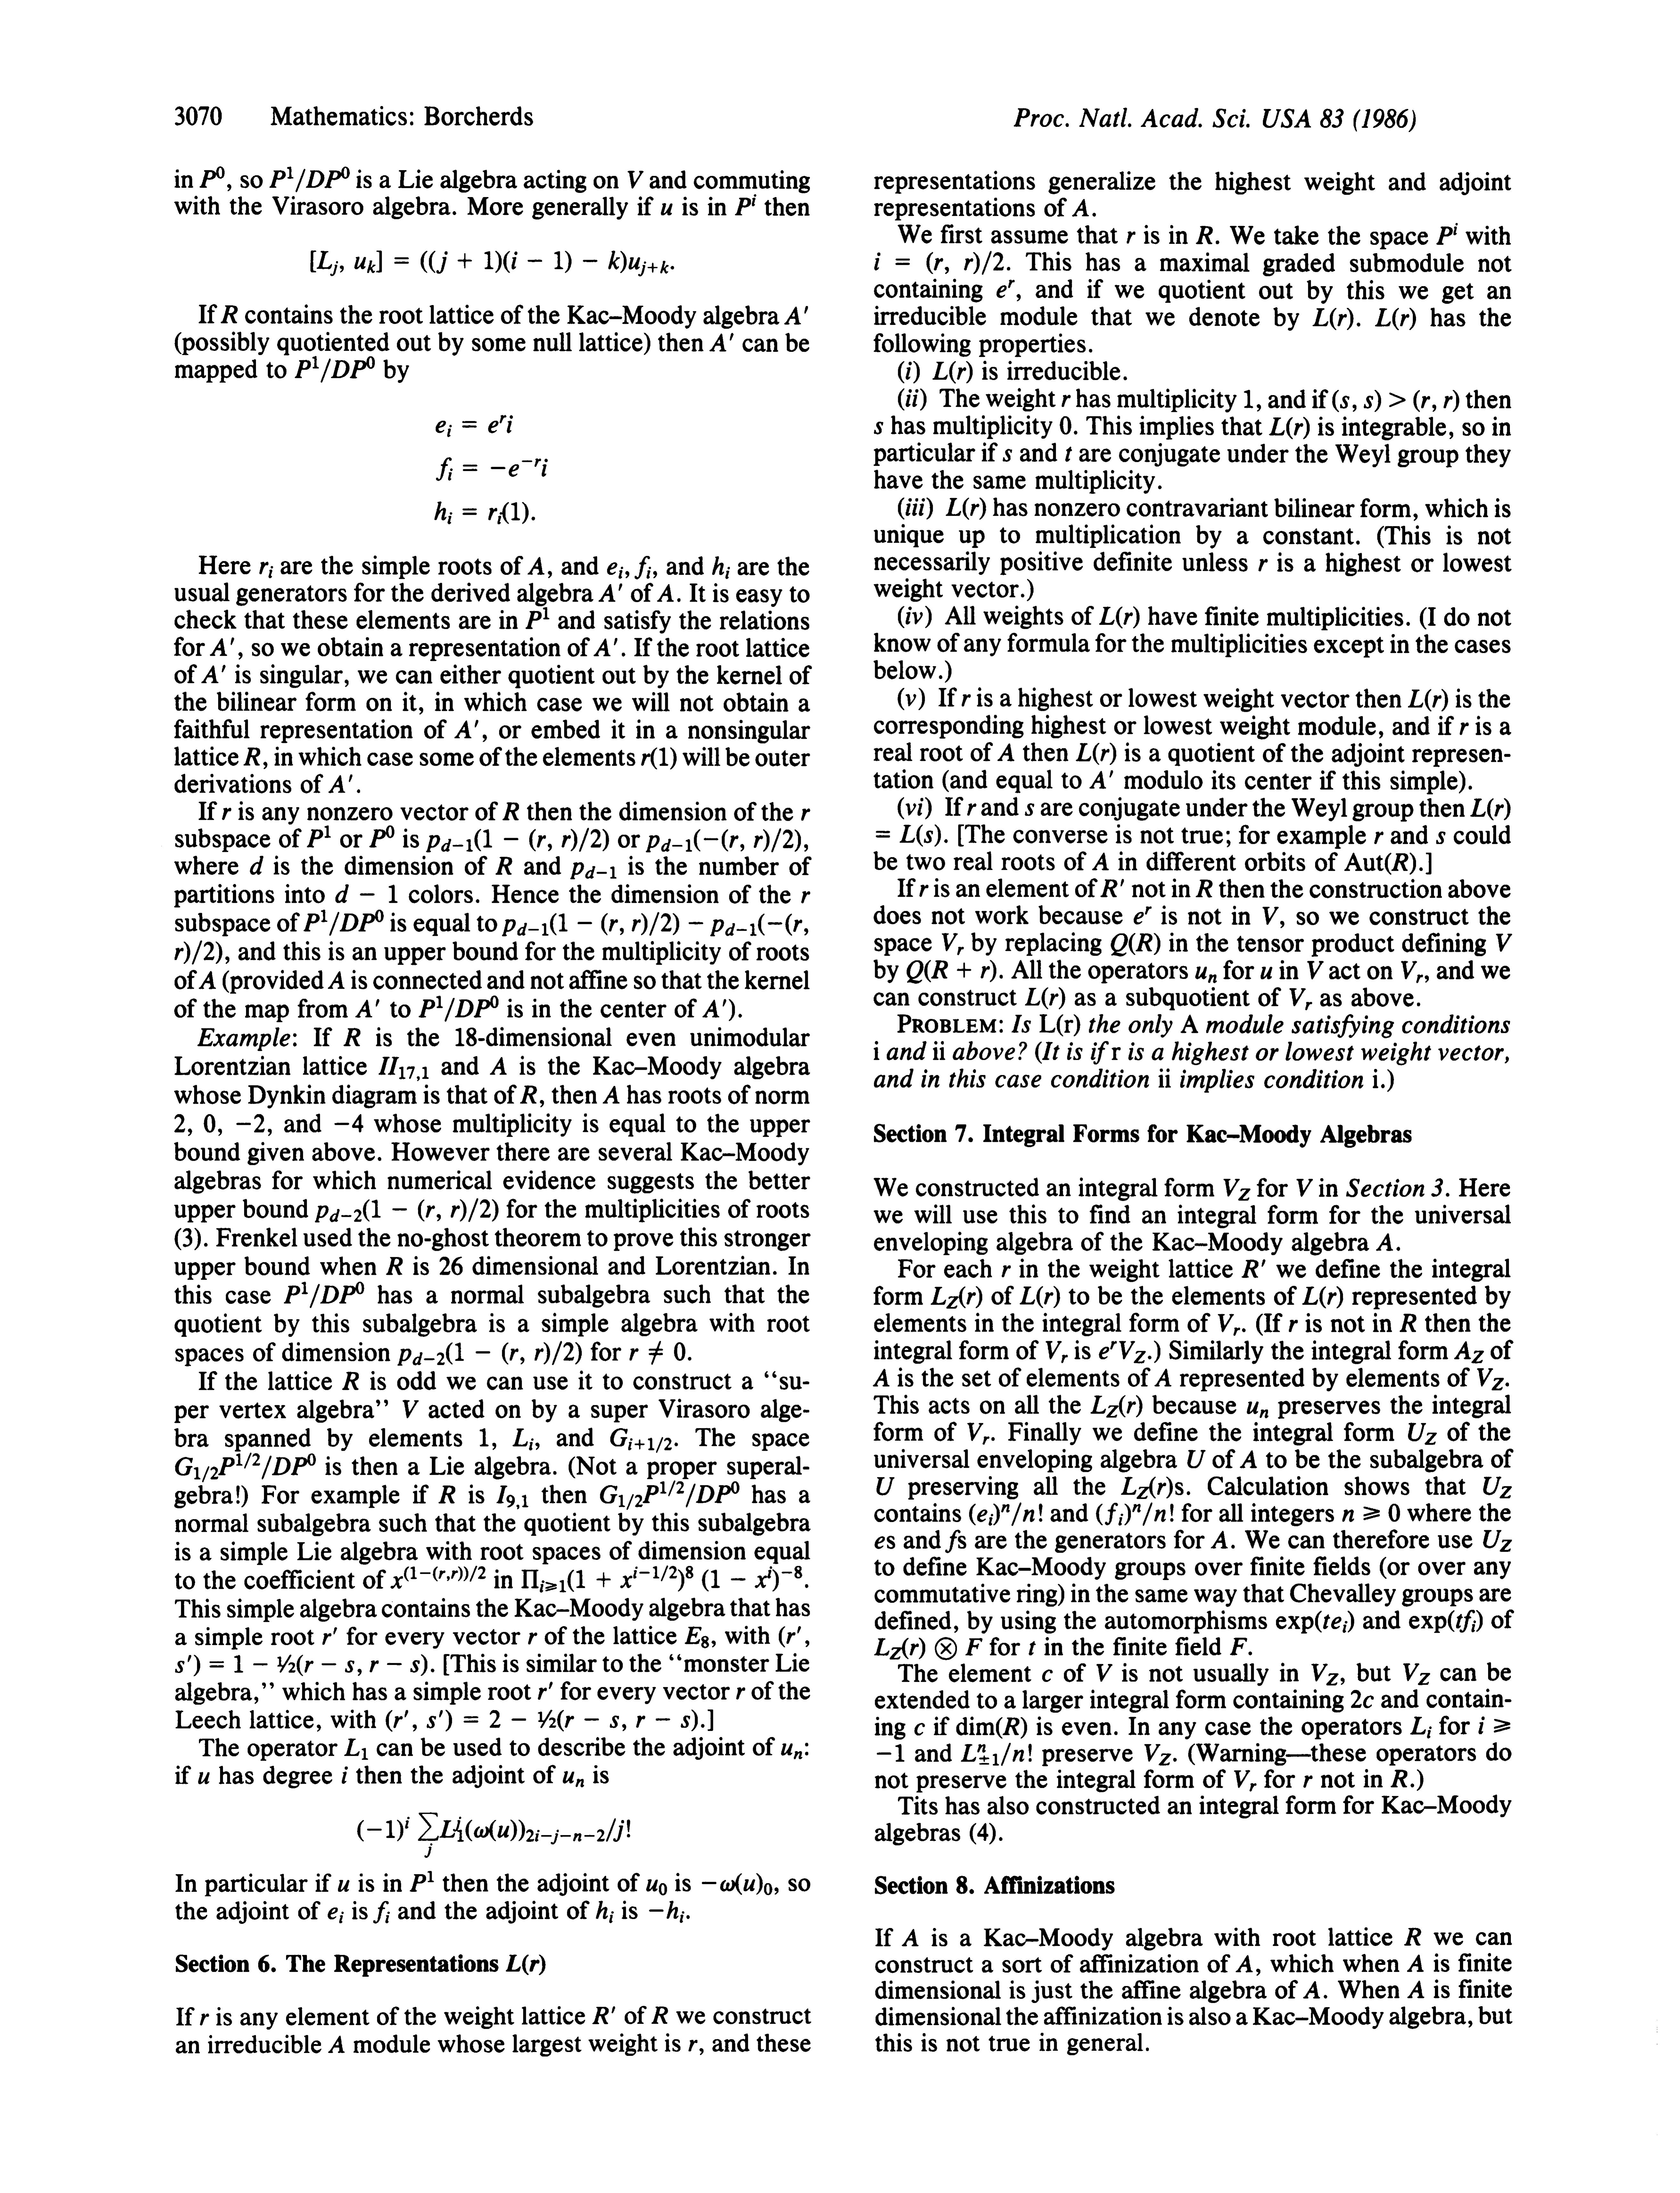maths: (356, 1812, 630, 1858), (311, 251, 674, 277), (521, 1565, 808, 1593), (501, 912, 808, 935), (175, 1655, 427, 1676), (386, 1710, 626, 1731), (425, 827, 609, 852), (314, 1198, 498, 1223), (397, 1341, 581, 1366), (175, 1452, 316, 1482), (600, 1480, 739, 1510), (646, 827, 801, 852), (1332, 390, 1459, 411), (436, 457, 547, 480), (874, 1637, 983, 1660), (390, 1565, 485, 1588), (434, 501, 528, 524), (270, 166, 349, 192), (295, 356, 374, 383), (418, 995, 498, 1022), (907, 960, 995, 983), (304, 910, 383, 935), (284, 1283, 364, 1307), (926, 251, 1004, 275), (1345, 852, 1422, 875), (1096, 1503, 1174, 1526), (1276, 1611, 1354, 1634), (436, 415, 512, 438), (969, 1503, 1043, 1526), (962, 1743, 1032, 1766), (1408, 1611, 1482, 1632), (875, 824, 941, 847), (956, 1717, 1027, 1738), (702, 1874, 771, 1895), (630, 1341, 692, 1364), (611, 1429, 671, 1452), (1121, 1477, 1182, 1498), (379, 1057, 429, 1082), (335, 884, 397, 903), (930, 1286, 981, 1309), (1099, 1341, 1151, 1364), (1110, 933, 1159, 956), (1343, 1503, 1399, 1523), (175, 940, 222, 963), (1091, 1396, 1142, 1417), (607, 556, 651, 579), (649, 1900, 690, 1923), (1375, 307, 1415, 330), (1269, 416, 1309, 439), (1470, 797, 1511, 820), (1025, 986, 1066, 1009), (1408, 688, 1447, 711), (1313, 309, 1354, 330), (932, 362, 972, 383), (946, 498, 986, 519), (1099, 607, 1140, 628), (1076, 743, 1117, 764), (1039, 1014, 1080, 1036), (1020, 1286, 1061, 1307), (1302, 1286, 1343, 1307), (506, 1955, 545, 1974), (641, 748, 676, 769), (570, 863, 616, 879), (496, 1486, 528, 1508), (1454, 1341, 1484, 1364), (635, 1715, 690, 1727), (1477, 1369, 1509, 1390), (1408, 1422, 1436, 1445), (778, 1627, 808, 1648), (1482, 1477, 1512, 1498), (1482, 1530, 1512, 1551), (328, 775, 360, 792), (1223, 1179, 1249, 1200), (1311, 1664, 1338, 1685), (1403, 1664, 1429, 1685), (1479, 1717, 1511, 1734), (1145, 1745, 1172, 1766), (334, 1115, 364, 1133), (199, 166, 224, 187), (369, 826, 394, 847), (409, 1870, 434, 1891), (236, 1115, 265, 1133), (526, 607, 549, 628), (307, 826, 330, 847), (685, 1627, 708, 1648), (344, 1738, 367, 1759), (1436, 222, 1458, 245), (1218, 1314, 1241, 1336), (967, 1422, 988, 1445), (1234, 1770, 1256, 1791), (784, 305, 808, 325), (355, 999, 379, 1018), (734, 194, 755, 215), (512, 1429, 533, 1450), (942, 933, 964, 954), (1401, 962, 1422, 983), (1290, 988, 1311, 1009), (1046, 1341, 1068, 1362), (1410, 1717, 1431, 1738), (210, 637, 233, 656), (439, 1256, 462, 1276), (593, 639, 618, 656), (201, 665, 226, 683), (1089, 771, 1114, 789), (877, 1745, 904, 1761), (455, 1027, 476, 1046), (203, 1115, 222, 1136), (709, 333, 732, 351), (711, 556, 729, 579), (598, 584, 621, 602), (455, 720, 478, 737), (372, 1900, 390, 1923), (596, 1900, 614, 1923), (1073, 199, 1096, 217), (1101, 879, 1124, 896), (1376, 1233, 1399, 1251), (1242, 1260, 1265, 1277), (1391, 1770, 1414, 1787), (593, 2006, 614, 2024), (1248, 1401, 1269, 1418), (1230, 1637, 1251, 1655), (1352, 1690, 1373, 1708), (1133, 907, 1152, 924), (563, 1771, 584, 1787), (646, 1879, 667, 1895), (1195, 967, 1216, 983), (656, 584, 674, 602), (438, 1486, 455, 1503), (997, 281, 1015, 298), (997, 743, 1015, 760), (1154, 1369, 1172, 1387), (1188, 1450, 1205, 1468), (877, 1477, 895, 1494), (1211, 1531, 1228, 1549), (1235, 1955, 1253, 1972), (1406, 1955, 1424, 1972), (1302, 1981, 1320, 1999), (782, 1743, 801, 1759), (221, 305, 236, 323), (528, 558, 544, 575), (244, 748, 259, 766), (503, 803, 519, 820), (496, 857, 512, 875), (199, 970, 215, 988), (328, 970, 344, 988), (702, 1000, 718, 1018), (344, 1029, 360, 1046), (491, 1057, 506, 1074), (521, 1085, 536, 1103), (386, 1258, 402, 1276), (342, 1373, 358, 1390), (402, 1401, 418, 1418), (651, 2006, 667, 2024), (1196, 226, 1212, 243), (1092, 852, 1108, 870), (1196, 879, 1212, 896), (1262, 907, 1278, 924), (1496, 933, 1512, 951), (1308, 962, 1324, 979), (1297, 1179, 1313, 1196), (1399, 1314, 1415, 1332), (874, 1369, 889, 1387), (1241, 1450, 1256, 1468), (1096, 1664, 1112, 1681), (902, 1928, 918, 1946), (1405, 1928, 1421, 1946), (604, 1087, 619, 1103), (328, 1907, 344, 1923), (328, 2036, 344, 2052), (1408, 1981, 1424, 1997), (628, 171, 642, 189), (259, 561, 274, 579), (323, 1627, 337, 1644), (538, 1681, 552, 1699), (251, 856, 263, 875), (1373, 1069, 1384, 1089), (1061, 416, 1071, 434), (480, 1429, 489, 1447), (660, 203, 672, 215), (198, 1771, 210, 1784), (1260, 967, 1272, 979), (337, 1881, 349, 1891), (914, 1724, 925, 1736), (1112, 1046, 1121, 1060), (222, 808, 231, 820), (801, 808, 810, 820), (801, 891, 810, 903), (528, 1632, 536, 1644), (736, 1687, 745, 1699), (199, 2013, 208, 2025), (688, 2040, 697, 2052), (874, 422, 882, 434), (1002, 448, 1011, 460), (1258, 559, 1267, 572), (1459, 722, 1468, 734), (967, 803, 976, 815), (1025, 803, 1034, 815), (1375, 831, 1384, 843), (1436, 831, 1445, 843), (919, 884, 928, 896), (1002, 1265, 1011, 1277), (1288, 1320, 1297, 1332), (1043, 1669, 1052, 1681), (1304, 1775, 1313, 1787), (874, 1041, 879, 1060), (1029, 1641, 1036, 1655), (342, 1766, 348, 1784), (875, 252, 881, 270), (1062, 395, 1071, 406), (962, 695, 971, 706), (1128, 231, 1135, 243), (895, 259, 909, 265), (1066, 446, 1071, 460)
